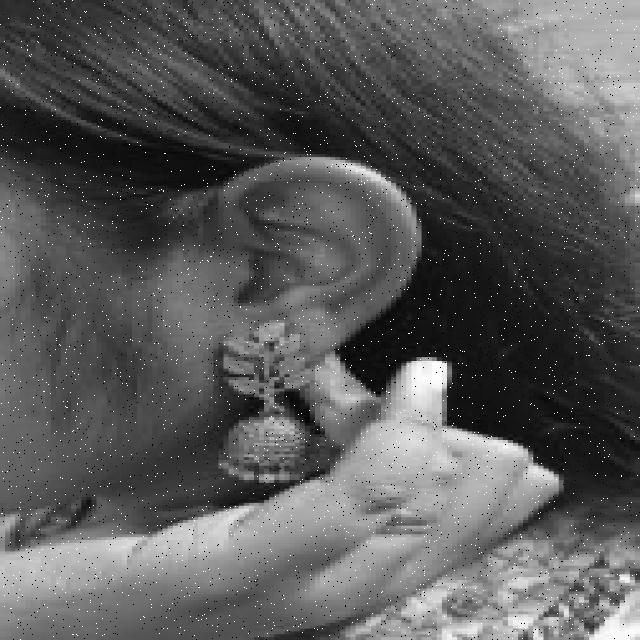ear: (208, 160, 411, 351)
